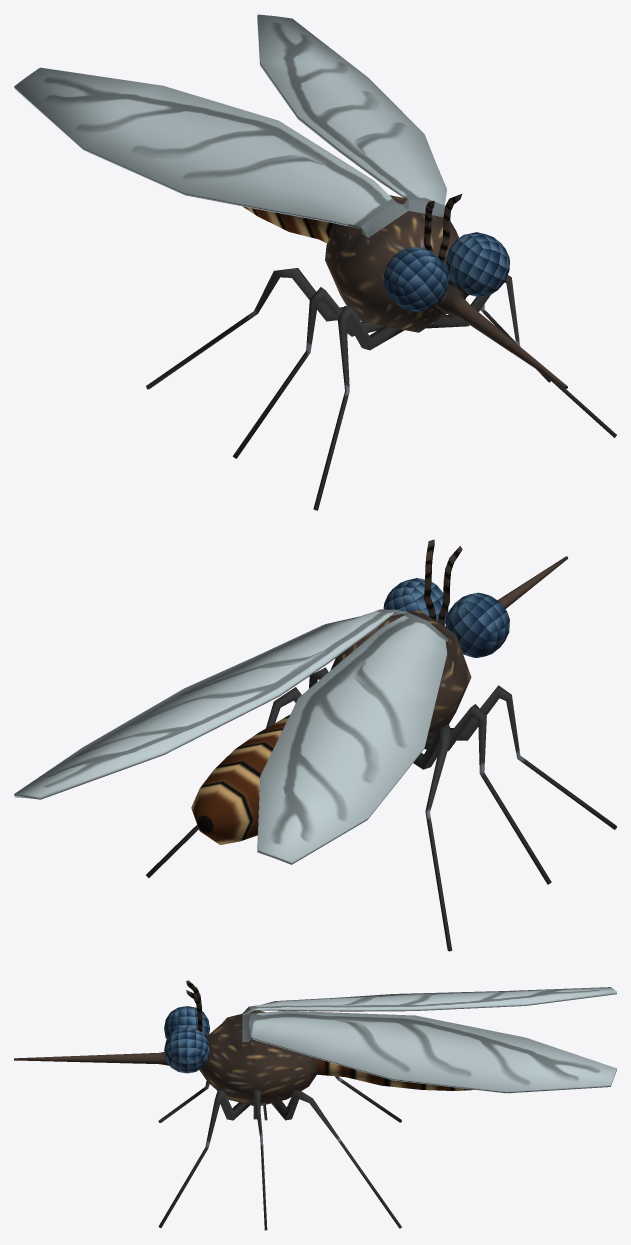
Rendered from mosquit animation.fbx.
3 views of the same model, one above another, from view 1: azimuth 30°, elevation 25°; view 2: azimuth 150°, elevation 25°; view 3: azimuth 270°, elevation 25° (orthographic). The views are drawn at different scales.
Parts seen in each view (by area): view 1: Cube; view 2: Cube; view 3: Cube.
Boxes of the visible parts, x1,y1,x2,y2 form: Cube: (14,14,616,510); Cube: (14,539,616,951); Cube: (14,980,616,1230).
Size of the model in its own units: 418 by 332 by 952.
